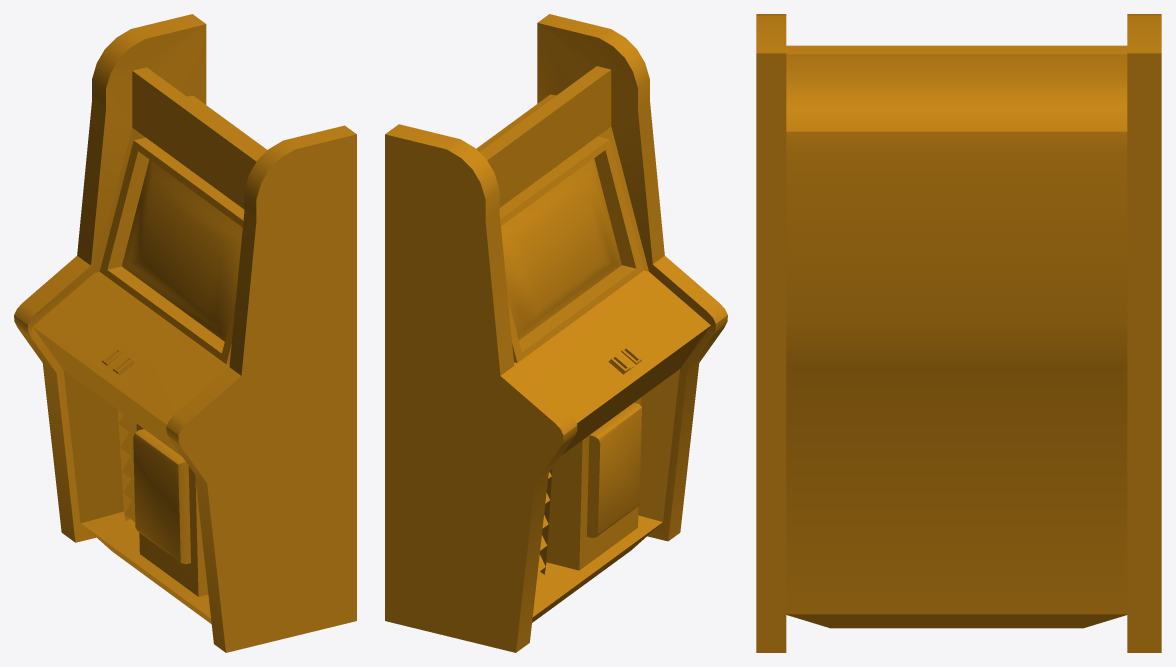
Rendered from ArcadeM2.fbx.
3 views of the same model, side by side, from view 1: azimuth 30°, elevation 25°; view 2: azimuth 150°, elevation 25°; view 3: azimuth 270°, elevation 25° (orthographic). The views are drawn at different scales.
Parts seen in each view (by area): view 1: ArcadeM2; view 2: ArcadeM2; view 3: ArcadeM2.
Part boxes in pixels (<box>): ArcadeM2: <box>14,14,356,652</box>; ArcadeM2: <box>385,14,727,652</box>; ArcadeM2: <box>756,14,1161,652</box>.
Bounding box in the file's own units: 34.63 × 90.31 × 55.26.
